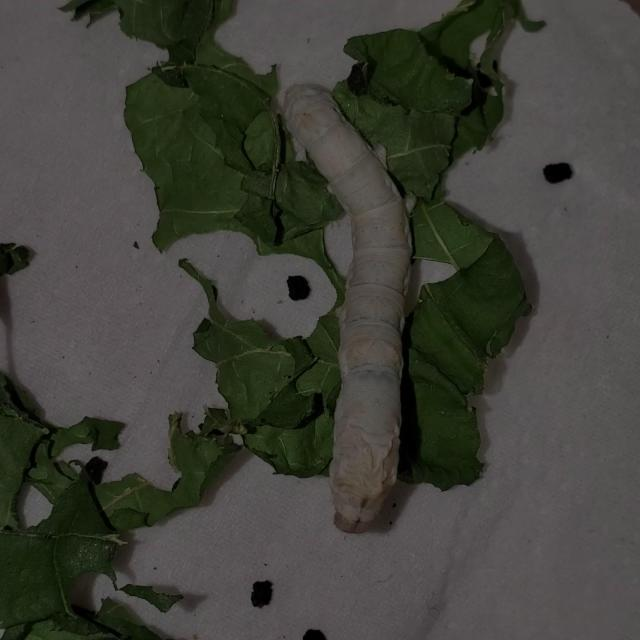Healthy: (269, 77, 435, 540)
